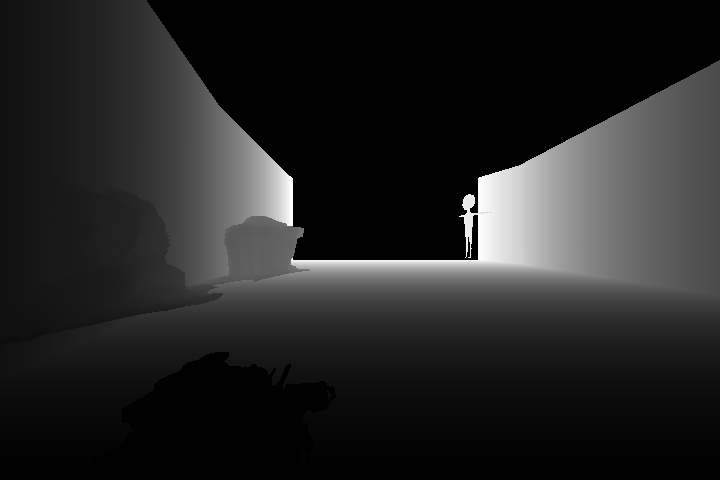alien: (456, 191, 496, 264)
green rock: (194, 214, 320, 292)
